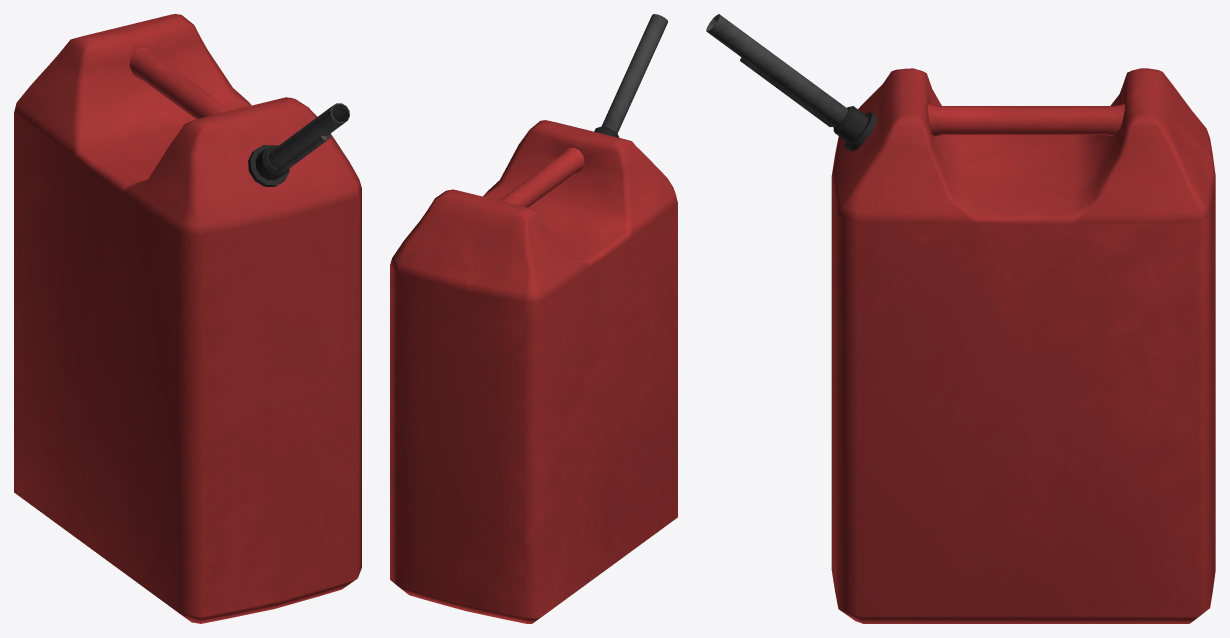
Rendered from BidonGasolina.fbx.
3 views of the same model, side by side, from view 1: azimuth 30°, elevation 25°; view 2: azimuth 150°, elevation 25°; view 3: azimuth 270°, elevation 25° (orthographic). The views are drawn at different scales.
Parts seen in each view (by area): view 1: pCylinder4; view 2: pCylinder4; view 3: pCylinder4.
Part boxes in pixels (left/top/right/bottom): pCylinder4: left=14, top=14, right=361, bottom=623; pCylinder4: left=390, top=14, right=677, bottom=623; pCylinder4: left=706, top=14, right=1215, bottom=623.
Bounding box in the file's own units: 21.91 × 57.51 × 46.57.
